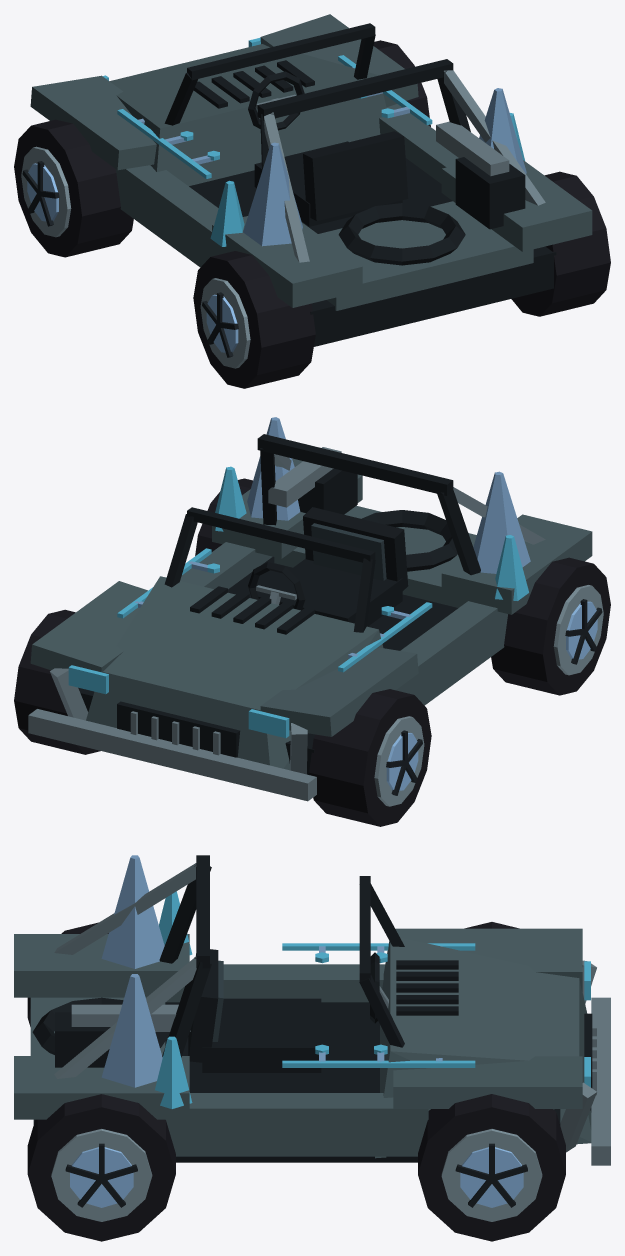
The model's file is kart.glb.
The picture shows the model from 3 angles, top to bottom: view 1: azimuth 30°, elevation 25°; view 2: azimuth 150°, elevation 25°; view 3: azimuth 270°, elevation 25°; orthographic projection. The views are drawn at different scales.
Parts seen in each view (by area): view 1: identity-warthog-warthog-sloped-armored-bonnet, identity-warthog-warthog-open-cage-and-cargo-bed, wheel-rear-left, wheel-front-left, identity-warthog-driver-cockpit, identity-warthog-motif-crystals, wheel-rear-right, identity-warthog-motif-circuit, wheel-front-right; view 2: identity-warthog-warthog-sloped-armored-bonnet, identity-warthog-warthog-open-cage-and-cargo-bed, wheel-front-left, wheel-rear-left, identity-warthog-driver-cockpit, identity-warthog-motif-crystals, wheel-front-right, identity-warthog-motif-circuit, wheel-rear-right; view 3: identity-warthog-warthog-sloped-armored-bonnet, wheel-front-right, wheel-rear-right, identity-warthog-warthog-open-cage-and-cargo-bed, identity-warthog-driver-cockpit, identity-warthog-motif-crystals, identity-warthog-motif-circuit.
Boxes of the visible parts, x1,y1,x2,y2 form: identity-warthog-warthog-sloped-armored-bonnet: (30, 14, 592, 346); identity-warthog-warthog-open-cage-and-cargo-bed: (164, 23, 545, 310); wheel-rear-left: (193, 251, 315, 388); wheel-front-left: (14, 119, 133, 257); identity-warthog-driver-cockpit: (248, 71, 408, 226); identity-warthog-motif-crystals: (210, 88, 526, 246); wheel-rear-right: (511, 171, 610, 316); identity-warthog-motif-circuit: (117, 55, 432, 178); wheel-front-right: (373, 40, 430, 126); identity-warthog-warthog-sloped-armored-bonnet: (28, 458, 592, 801); identity-warthog-warthog-open-cage-and-cargo-bed: (164, 434, 545, 632); wheel-front-left: (309, 689, 431, 826); wheel-rear-left: (491, 557, 610, 695); identity-warthog-driver-cockpit: (248, 507, 408, 626); identity-warthog-motif-crystals: (215, 417, 530, 600); wheel-front-right: (14, 609, 100, 754); identity-warthog-motif-circuit: (117, 548, 432, 672); wheel-rear-right: (195, 478, 252, 555); identity-warthog-warthog-sloped-armored-bonnet: (14, 928, 610, 1165); wheel-front-right: (418, 1094, 565, 1241); wheel-rear-right: (27, 1094, 175, 1241); identity-warthog-warthog-open-cage-and-cargo-bed: (30, 855, 404, 1078); identity-warthog-driver-cockpit: (188, 949, 388, 1072); identity-warthog-motif-crystals: (101, 855, 192, 1108); identity-warthog-motif-circuit: (282, 943, 475, 1067).
Bounding box in the file's own units: 2.37 × 1.37 × 3.06.
